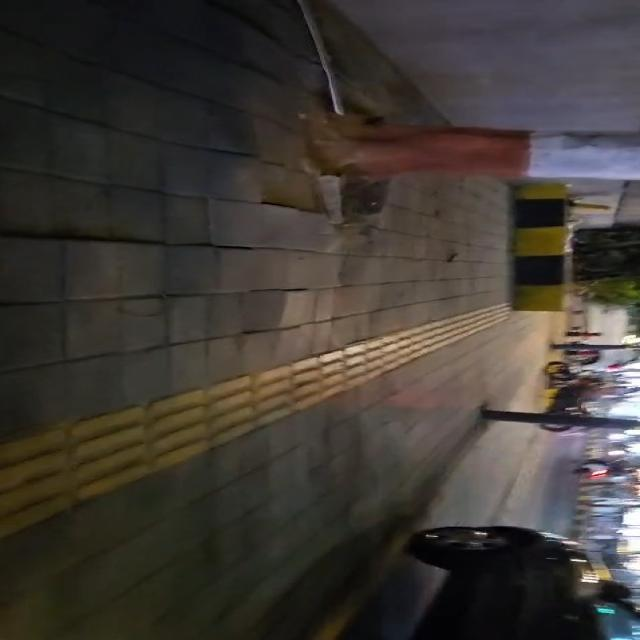obstacle: (516, 180, 571, 311), (483, 409, 639, 429), (551, 343, 637, 350), (566, 330, 602, 337)
